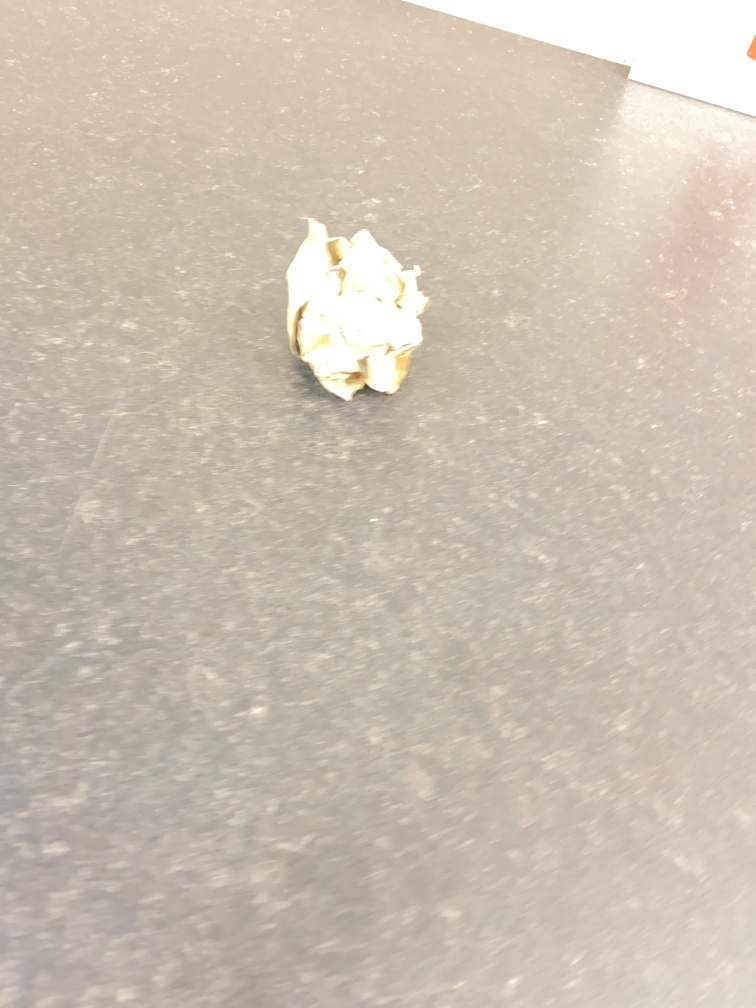paper_brown: (278, 214, 434, 406)
